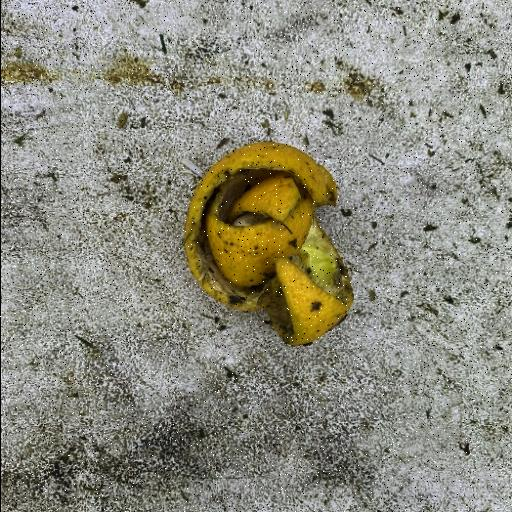Waste: (182, 140, 354, 347)
